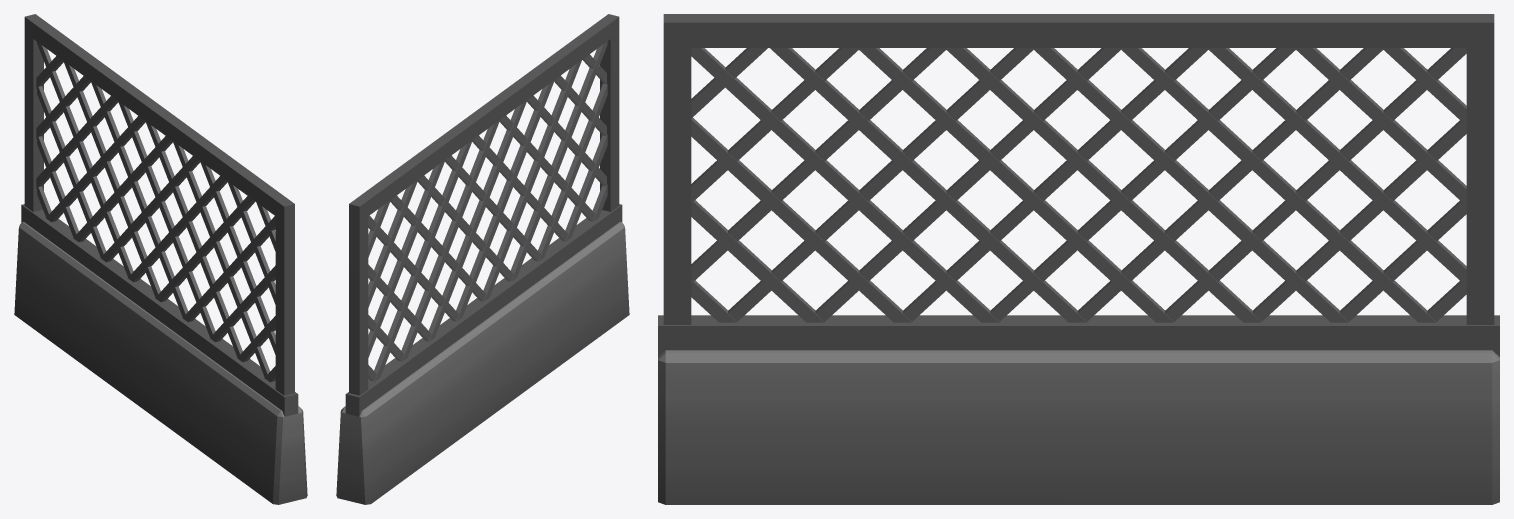
The model's file is Fence_1_F_6.fbx.
3 views of the same model, side by side, from view 1: azimuth 30°, elevation 25°; view 2: azimuth 150°, elevation 25°; view 3: azimuth 270°, elevation 25° (orthographic). The views are drawn at different scales.
Visible parts, largest first — view 1: Fence_1_F_6; view 2: Fence_1_F_6; view 3: Fence_1_F_6.
Boxes of the visible parts, bbox=[...] form: Fence_1_F_6: bbox=[14, 14, 307, 504]; Fence_1_F_6: bbox=[336, 14, 629, 504]; Fence_1_F_6: bbox=[658, 14, 1499, 504].
Bounding box in the file's own units: 30.52 × 248 × 400.
